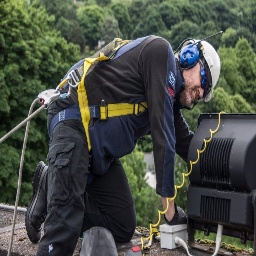helmet: (183, 36, 224, 109)
no-vest: (66, 37, 177, 147)
person: (43, 34, 226, 256)
